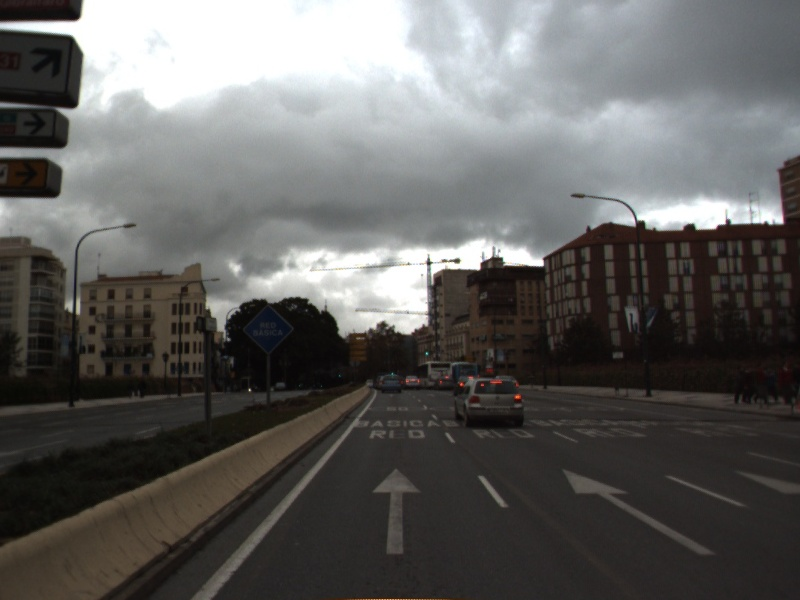STRAIGHT: (561, 467, 721, 559), (369, 465, 425, 557)
